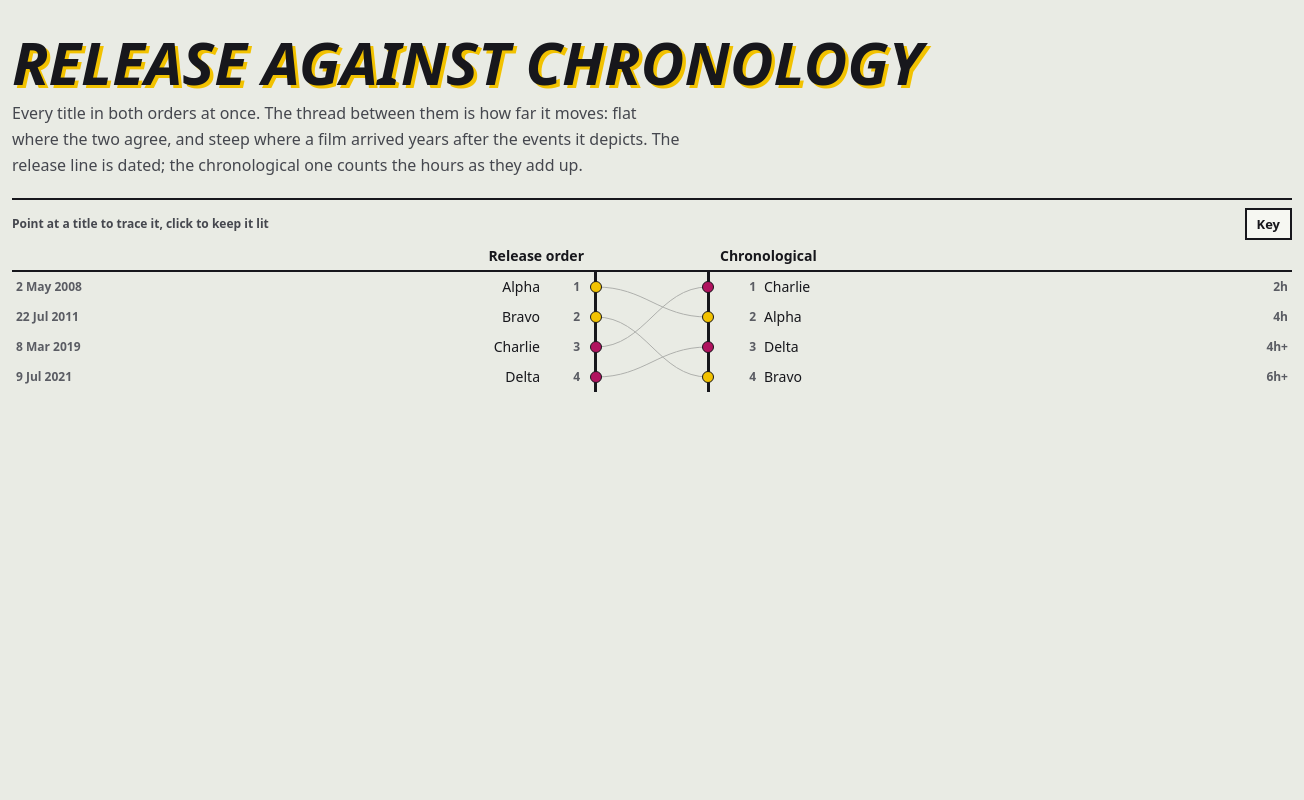
Scenario: ComparePage › takes a line away from the key, and the threads with it
Click the button "Key": (1268, 224) [1244,208,1292,240]
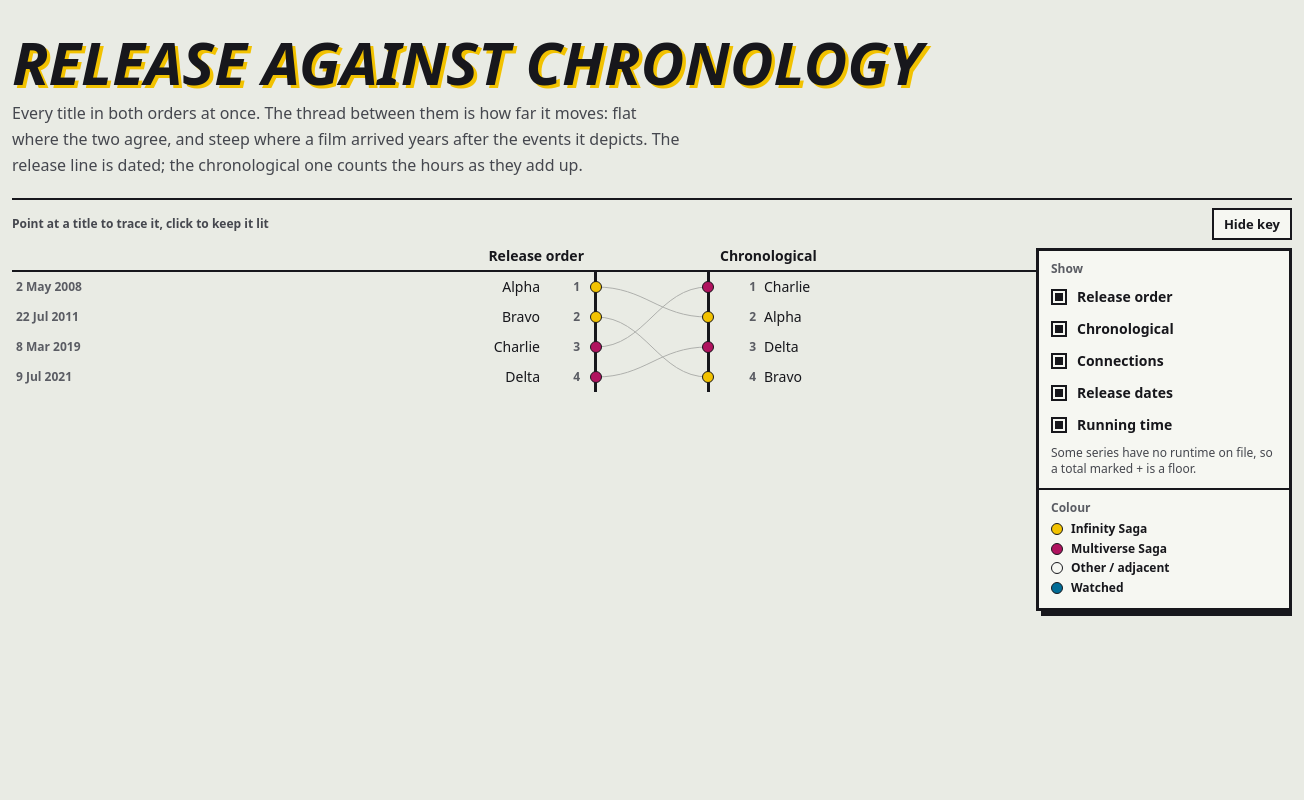
Click the switch labelled "Chronological": (1164, 329) [1051,313,1277,345]
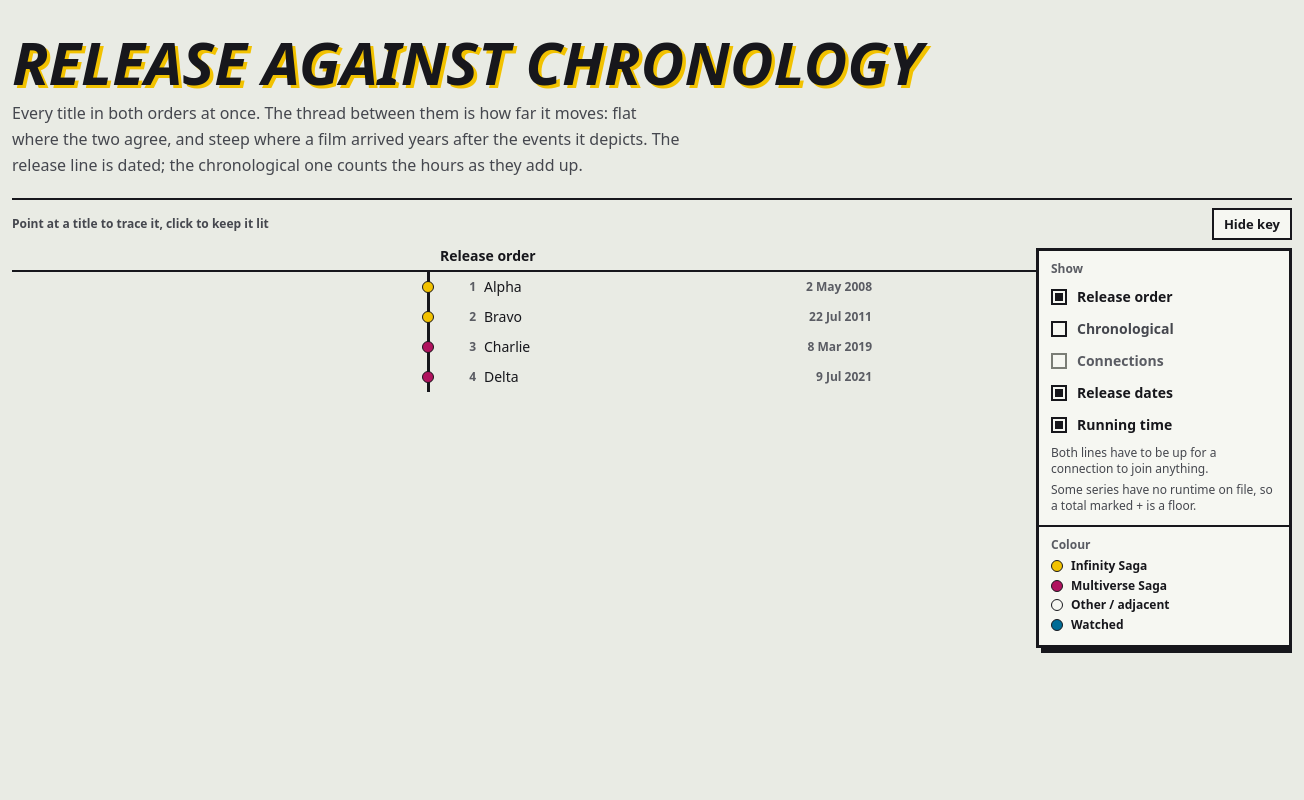
Check: the switch labelled "Connections" is disabled, box [1051,345,1277,377]
